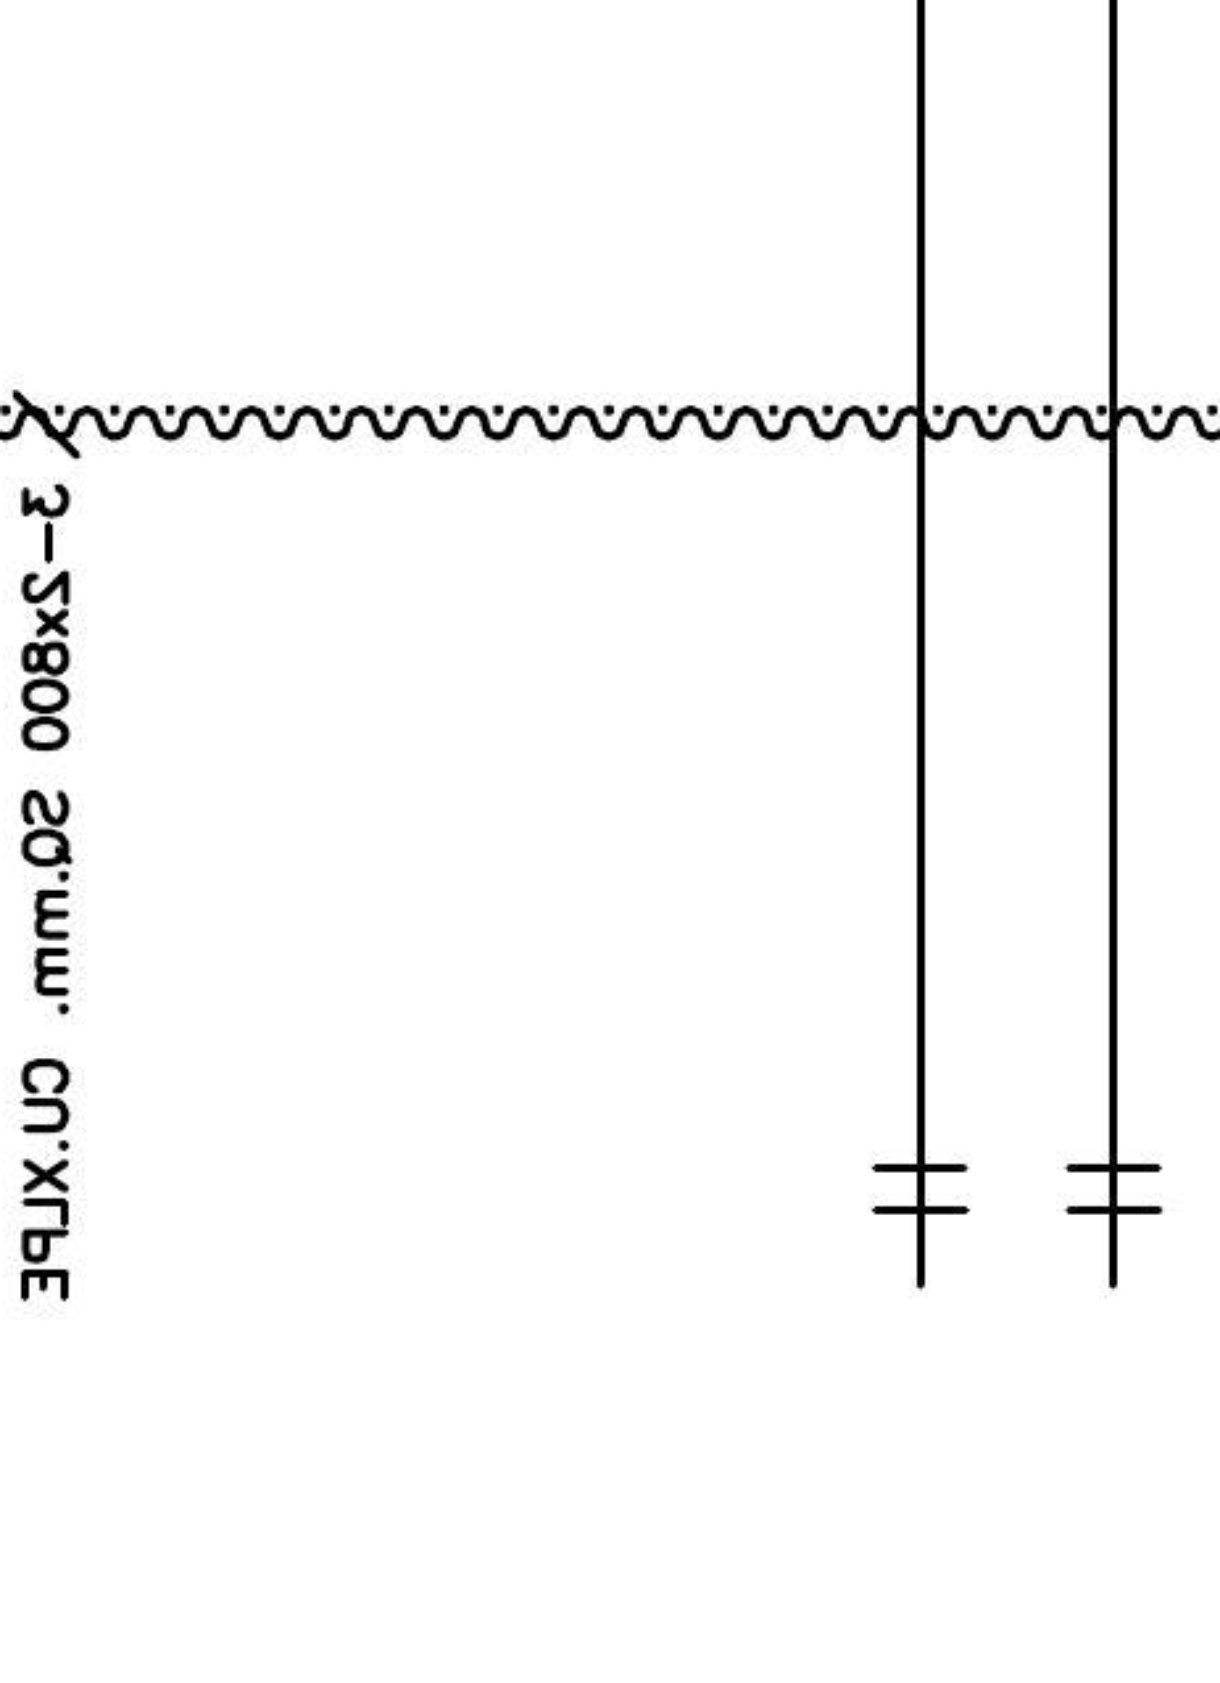115_buffer: (1065, 1164, 1164, 1215), (871, 1164, 971, 1214)
